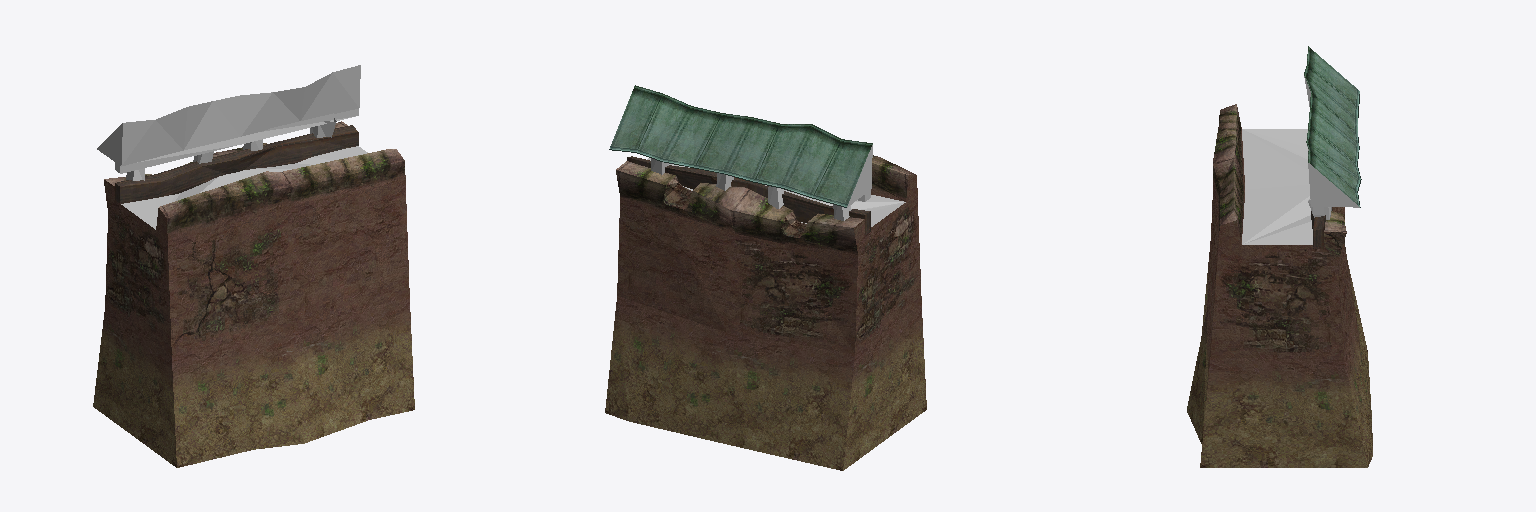
3 views of the same model, side by side, from view 1: azimuth 30°, elevation 25°; view 2: azimuth 150°, elevation 25°; view 3: azimuth 270°, elevation 25° (orthographic).
Visible parts, largest first — view 1: Node 0; view 2: Node 0; view 3: Node 0.
Boxes of the visible parts, <box> form: Node 0: <box>93,65,414,467</box>; Node 0: <box>605,85,926,470</box>; Node 0: <box>1187,46,1372,467</box>.
Bounding box in the file's own units: 10 × 12.38 × 6.8.
4 materials, 3 textured.